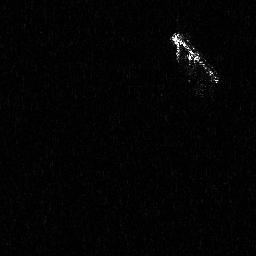ship: (169, 31, 220, 100)
